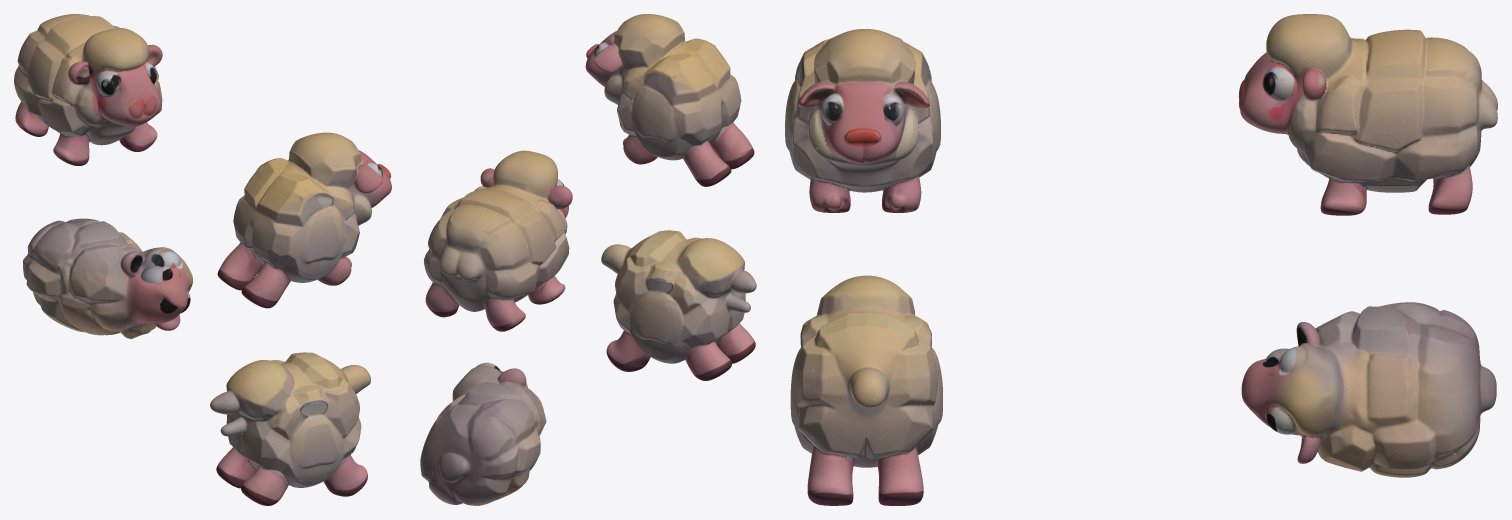
File: sheep_1.fbx
3 renders of one model, left to right at view 1: azimuth 30°, elevation 25°; view 2: azimuth 150°, elevation 25°; view 3: azimuth 270°, elevation 25°, orthographic. The views are drawn at different scales.
Parts seen in each view (by area): view 1: tripo_node_1aadb4ba; view 2: tripo_node_1aadb4ba; view 3: tripo_node_1aadb4ba.
Boxes of the visible parts, x1,y1,x2,y2 form: tripo_node_1aadb4ba: [14, 14, 391, 505]; tripo_node_1aadb4ba: [420, 14, 756, 505]; tripo_node_1aadb4ba: [785, 14, 1497, 505].
Size of the model in its own units: 0.37 by 0.7203 by 1.
1 material, 1 textured.
